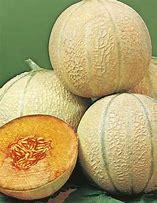Melon Ripe: (48, 0, 152, 96), (78, 93, 157, 195), (1, 114, 77, 199)
